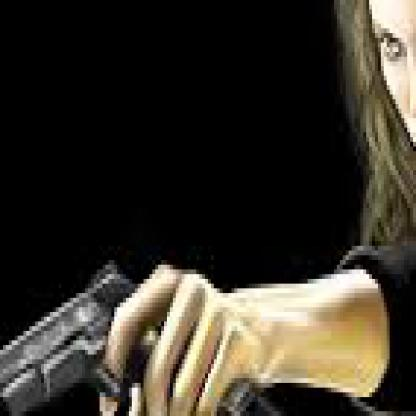gun: (14, 0, 197, 393), (173, 0, 305, 142)
